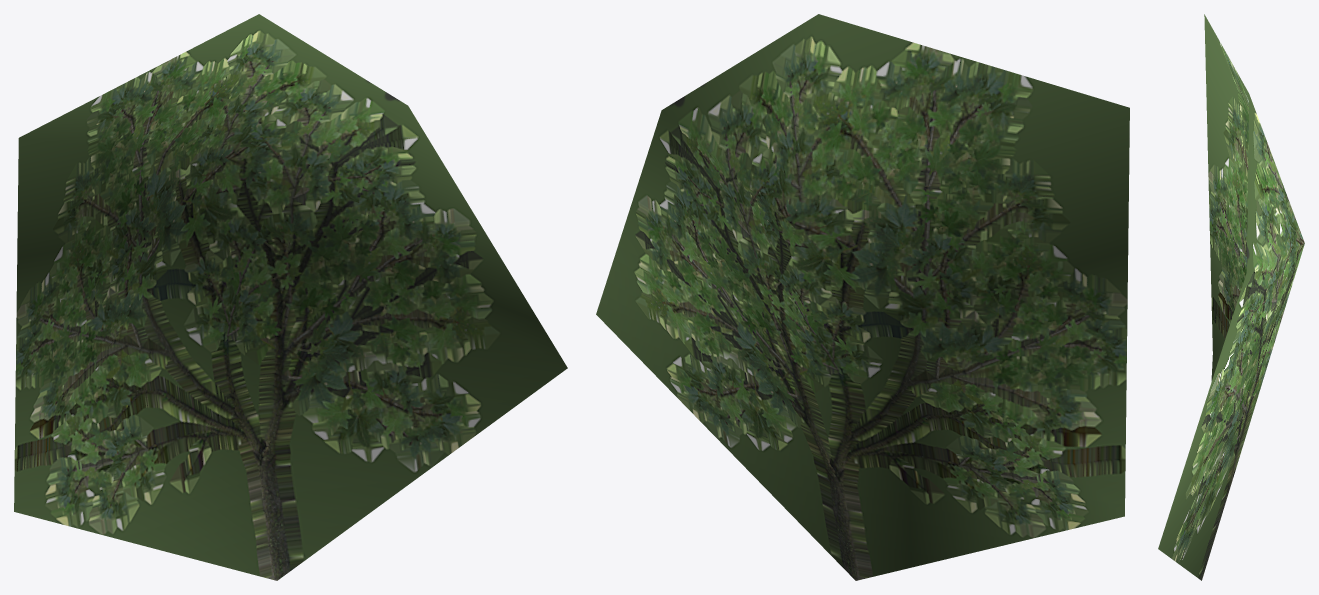
The model's file is sycamoreBranch01 corrected.fbx.
3 views of the same model, side by side, from view 1: azimuth 30°, elevation 25°; view 2: azimuth 150°, elevation 25°; view 3: azimuth 270°, elevation 25° (orthographic). The views are drawn at different scales.
Parts seen in each view (by area): view 1: Polygon; view 2: Polygon; view 3: Polygon.
Part boxes in pixels (<box>): Polygon: <box>14,14,567,580</box>; Polygon: <box>596,14,1129,580</box>; Polygon: <box>1158,14,1304,580</box>.
Size of the model in its own units: 20 by 19.92 by 5.4.
